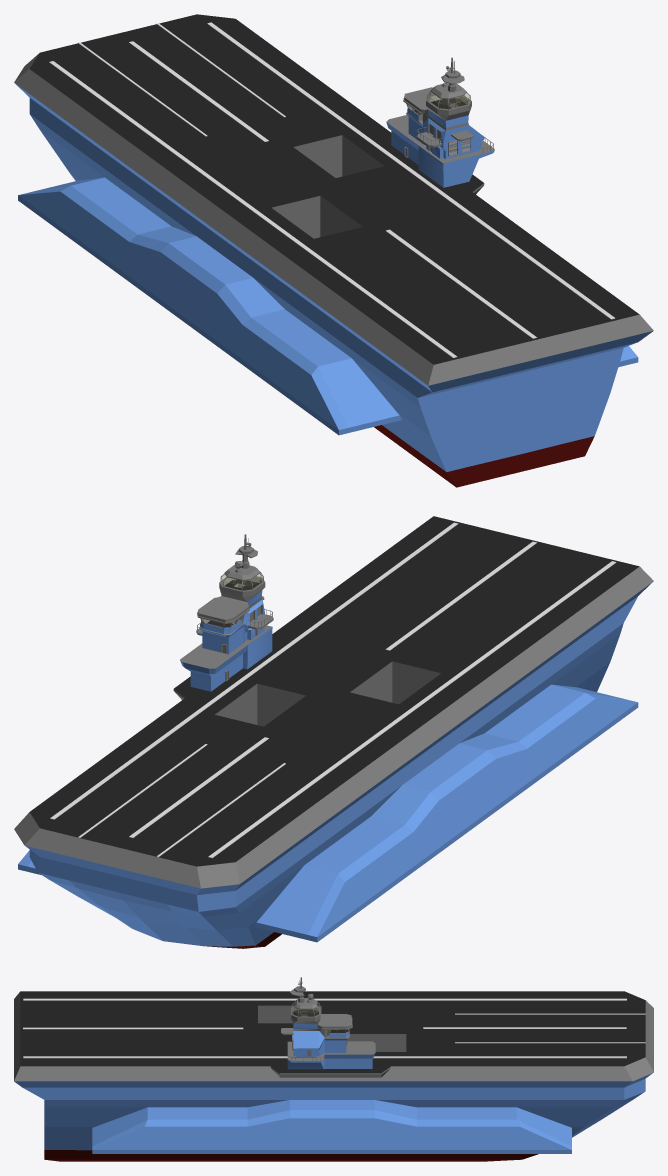
File: Land carrier 3.glb
3 renders of one model, top to bottom at view 1: azimuth 30°, elevation 25°; view 2: azimuth 150°, elevation 25°; view 3: azimuth 270°, elevation 25°, orthographic. The views are drawn at different scales.
Visible parts, largest first — view 1: Flight deck, main hull, side skirts, superstructure main island, Ramp outer, Elevators; view 2: Flight deck, side skirts, main hull, superstructure main island, Elevators; view 3: Flight deck, main hull, side skirts, superstructure main island, Elevators, Catapult 1, Catapult 2.
Part boxes in pixels (<box>): Flight deck: <box>14,14,653,385</box>; main hull: <box>16,84,652,487</box>; side skirts: <box>18,177,638,435</box>; superstructure main island: <box>386,57,494,194</box>; Ramp outer: <box>471,385,569,459</box>; Elevators: <box>272,135,384,238</box>; Flight deck: <box>14,516,653,888</box>; side skirts: <box>18,684,638,942</box>; main hull: <box>25,581,653,948</box>; superstructure main island: <box>173,534,273,699</box>; Elevators: <box>215,661,440,726</box>; Flight deck: <box>14,991,653,1081</box>; main hull: <box>14,1072,653,1161</box>; side skirts: <box>92,1100,571,1153</box>; superstructure main island: <box>270,977,390,1077</box>; Elevators: <box>258,1005,406,1051</box>; Catapult 1: <box>455,1013,645,1014</box>; Catapult 2: <box>455,1042,645,1043</box>.
Size of the model in its own units: 60.99 by 53.18 by 151.
